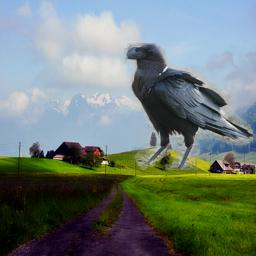Crow: (123, 43, 253, 170)
